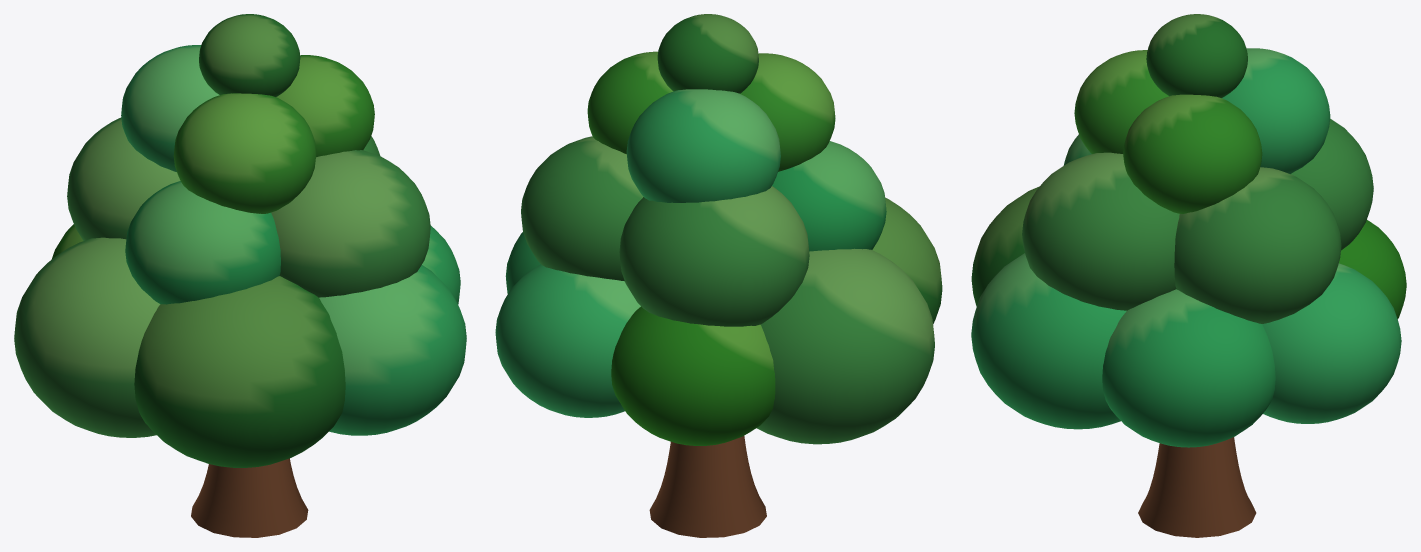
Rendered from pine-tree-112.obj.
3 views of the same model, side by side, from view 1: azimuth 30°, elevation 25°; view 2: azimuth 150°, elevation 25°; view 3: azimuth 270°, elevation 25° (orthographic).
Visible parts, largest first — view 1: tree; view 2: tree; view 3: tree.
Part boxes in pixels (left/top/right/bottom): tree: left=14, top=14, right=466, bottom=537; tree: left=495, top=14, right=942, bottom=537; tree: left=971, top=14, right=1406, bottom=537.
Bounding box in the file's own units: 283 × 325 × 260.
